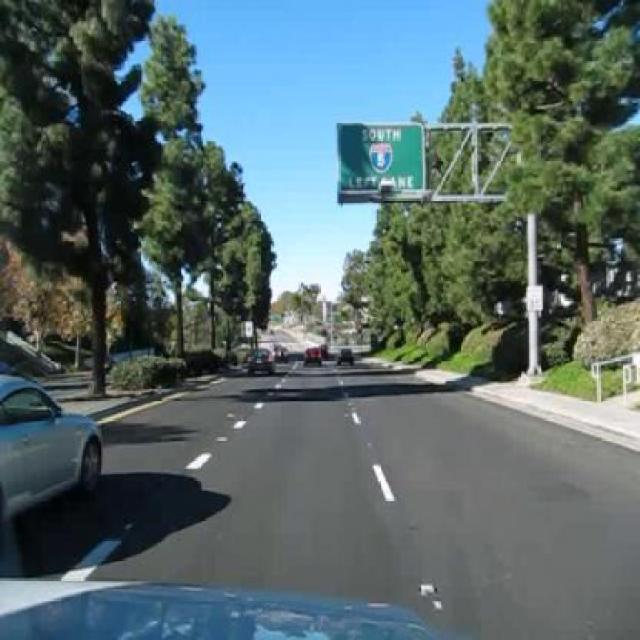speedLimit35: (526, 285, 543, 311)
